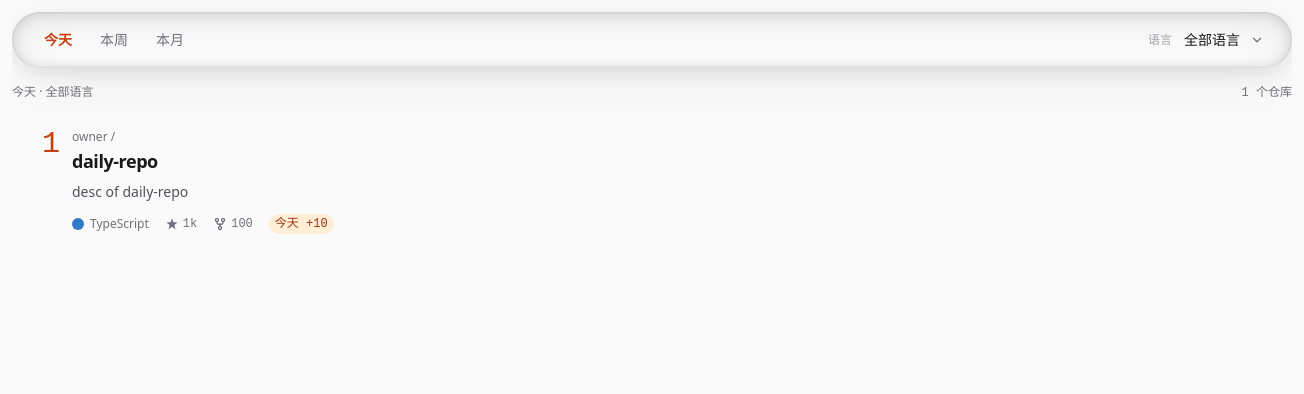
Test: RepoBrowser › keeps the cache-hit selection when an in-flight miss resolves late
What coordinates should you click on to do the following:
click the button "本周"
I would click on:
 (114, 40)
Its box is [88, 24, 140, 56].
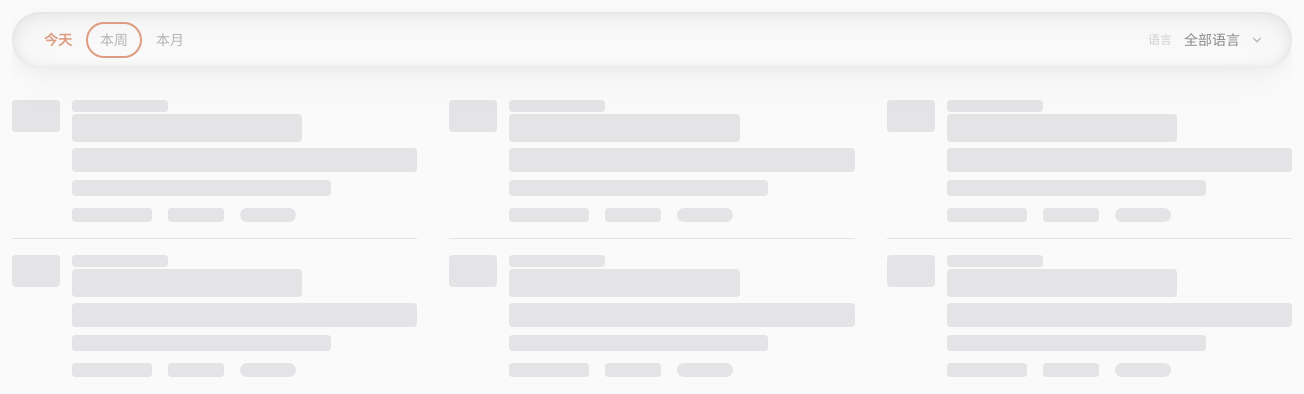
pending 期间点击缓存命中的键：界面立即切回 daily
What coordinates should you click on to do the following:
click the button "今天"
I would click on:
 (58, 40)
Its box is [32, 24, 84, 56].
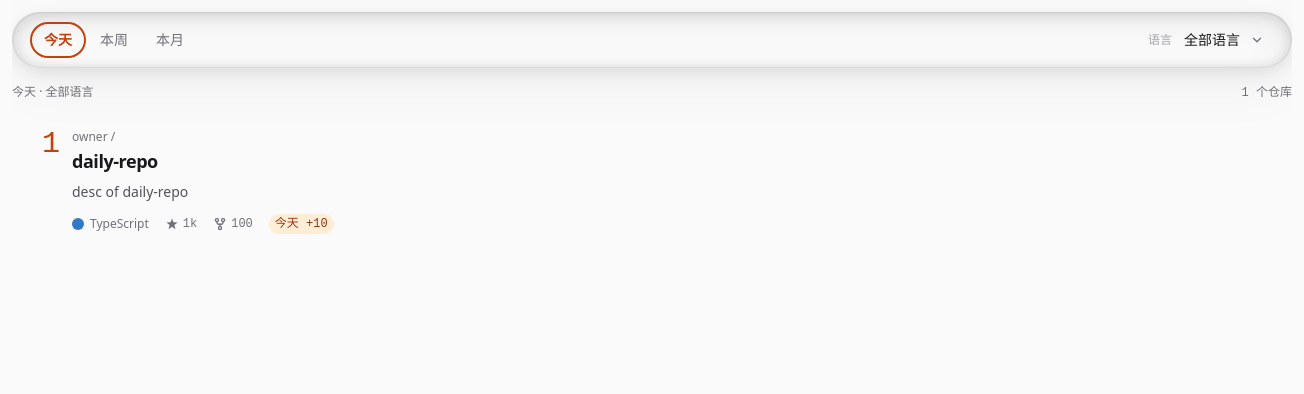
Now the text "daily-repo" is shown, box [72, 149, 158, 173]
